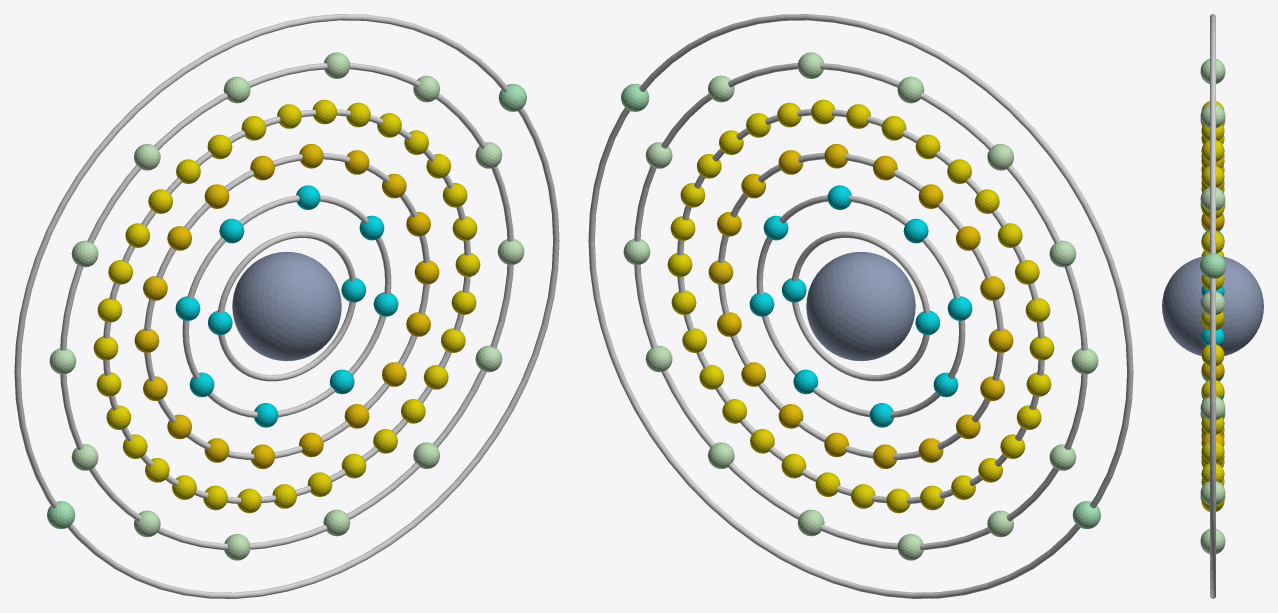
The picture shows the model from 3 angles, left to right: view 1: azimuth 30°, elevation 25°; view 2: azimuth 150°, elevation 25°; view 3: azimuth 270°, elevation 25°; orthographic projection. The views are drawn at different scales.
Visible parts, largest first — view 1: world; view 2: world; view 3: world.
Boxes of the visible parts, x1=… form: world: x1=14, y1=14, x2=559, y2=598; world: x1=588, y1=14, x2=1133, y2=598; world: x1=1162, y1=14, x2=1263, y2=598.
Size of the model in its own units: 2.53 by 2.53 by 0.44.
